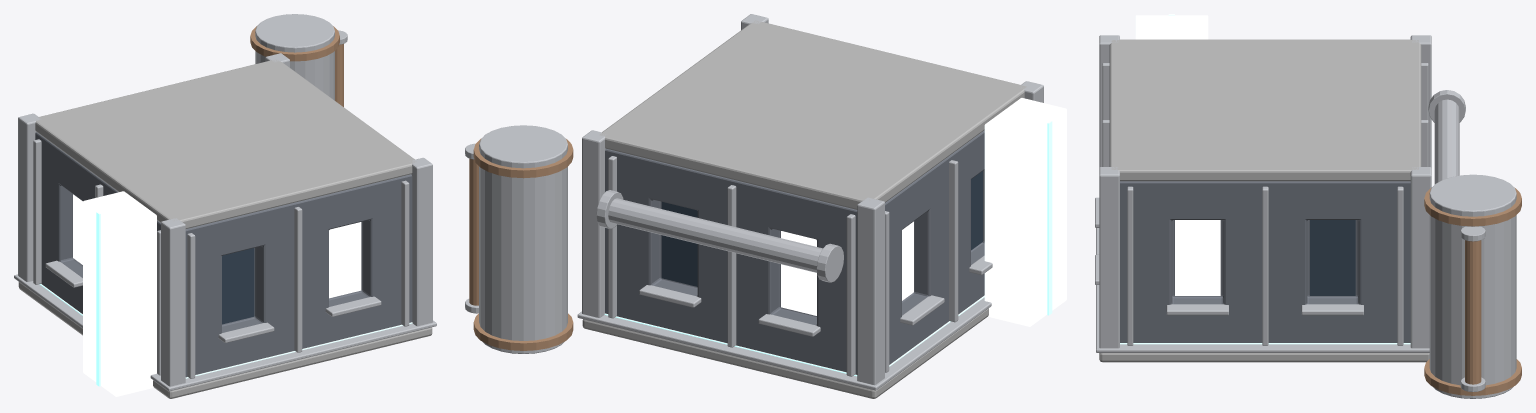
File: svc_3x3.glb
3 views of the same model, side by side, from view 1: azimuth 30°, elevation 25°; view 2: azimuth 150°, elevation 25°; view 3: azimuth 270°, elevation 25° (orthographic). The views are drawn at different scales.
Visible parts, largest first — view 1: int_ceiling, ext_wall, ext_lift, int_columns, ext_frames, ext_svc_tower, int_slab_edge, int_slab, ext_panes_lit, ext_panes_dark, ext_svc_ring2, ext_lift_glow (+2 smaller); view 2: int_ceiling, ext_wall, ext_svc_tower, ext_lift, int_columns, ext_frames, ext_duct, int_slab_edge, int_slab, ext_panes_dark, ext_panes_lit, ext_svc_pipe (+6 smaller); view 3: int_ceiling, ext_wall, ext_svc_tower, int_columns, ext_frames, ext_panes_lit, ext_panes_dark, int_slab, int_slab_edge, ext_svc_pipe, ext_duct, ext_lift (+4 smaller).
Boxes of the visible parts, left/top/right/bottom form: int_ceiling: left=35, top=59, right=416, bottom=228; ext_wall: left=35, top=132, right=412, bottom=377; ext_lift: left=83, top=191, right=156, bottom=396; int_columns: left=18, top=53, right=432, bottom=386; ext_frames: left=33, top=139, right=409, bottom=378; ext_svc_tower: left=255, top=14, right=334, bottom=100; int_slab_edge: left=14, top=274, right=436, bottom=391; int_slab: left=18, top=282, right=432, bottom=398; ext_panes_lit: left=73, top=194, right=361, bottom=298; ext_panes_dark: left=222, top=248, right=254, bottom=324; ext_svc_ring2: left=250, top=26, right=339, bottom=61; ext_lift_glow: left=96, top=212, right=100, bottom=386; int_ceiling: left=599, top=20, right=1026, bottom=209; ext_wall: left=605, top=130, right=984, bottom=374; ext_svc_tower: left=479, top=125, right=567, bottom=353; ext_lift: left=984, top=98, right=1066, bottom=326; int_columns: left=582, top=14, right=1043, bottom=385; ext_frames: left=608, top=156, right=992, bottom=376; ext_duct: left=608, top=198, right=822, bottom=272; int_slab_edge: left=577, top=297, right=991, bottom=390; int_slab: left=582, top=308, right=988, bottom=398; ext_panes_dark: left=661, top=171, right=982, bottom=286; ext_panes_lit: left=781, top=221, right=913, bottom=315; ext_svc_pipe: left=469, top=158, right=478, bottom=305; int_ceiling: left=1109, top=39, right=1421, bottom=181; ext_wall: left=1120, top=181, right=1410, bottom=342; ext_svc_tower: left=1429, top=174, right=1516, bottom=398; int_columns: left=1099, top=35, right=1431, bottom=348; ext_frames: left=1095, top=63, right=1428, bottom=345; ext_panes_lit: left=1175, top=220, right=1220, bottom=295; ext_panes_dark: left=1310, top=220, right=1355, bottom=295; int_slab: left=1099, top=353, right=1429, bottom=362; int_slab_edge: left=1096, top=228, right=1429, bottom=352; ext_svc_pipe: left=1465, top=240, right=1481, bottom=384; ext_duct: left=1434, top=99, right=1459, bottom=184; ext_lift: left=1135, top=15, right=1208, bottom=39.
Bounding box in the file's own units: 4.69 × 2 × 4.11.
